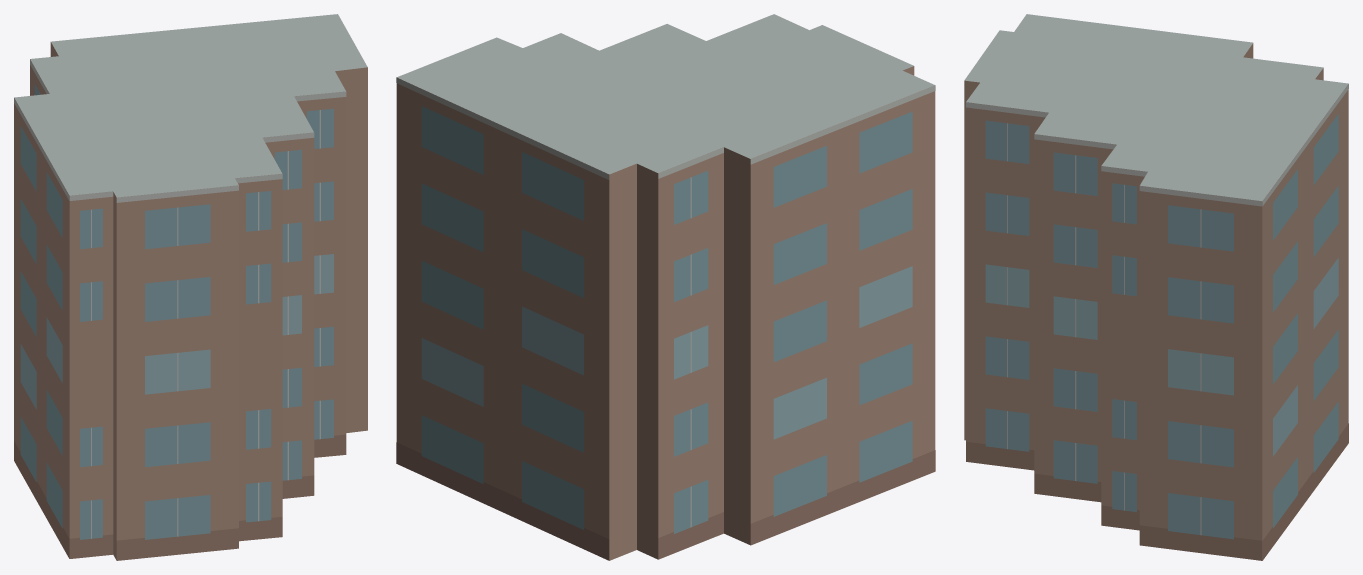
The model's file is survey-upis-32603218.glb.
3 views of the same model, side by side, from view 1: azimuth 30°, elevation 25°; view 2: azimuth 150°, elevation 25°; view 3: azimuth 270°, elevation 25° (orthographic). The views are drawn at different scales.
Parts seen in each view (by area): view 1: survey-upis-32603218.tmp; view 2: survey-upis-32603218.tmp; view 3: survey-upis-32603218.tmp.
Boxes of the visible parts, left/top/right/bottom form: survey-upis-32603218.tmp: left=14, top=14, right=367, bottom=560; survey-upis-32603218.tmp: left=396, top=14, right=935, bottom=560; survey-upis-32603218.tmp: left=964, top=14, right=1348, bottom=560.
Bounding box in the file's own units: 18.43 × 16.5 × 16.
